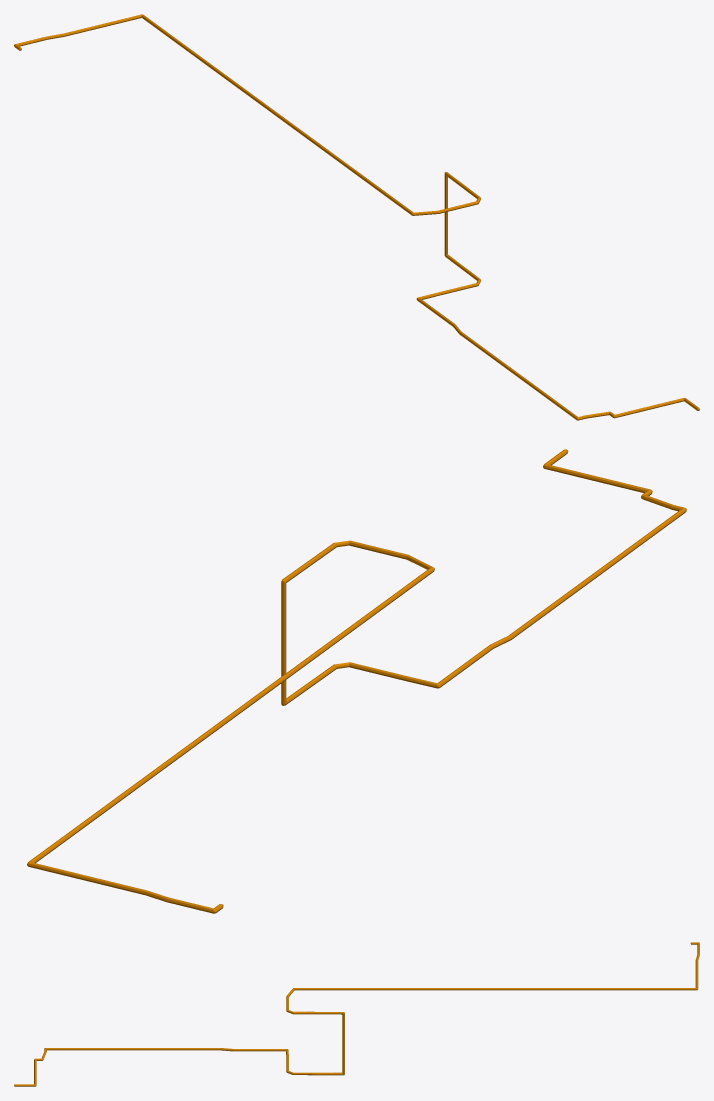
3 views of the same model, one above another, from view 1: azimuth 30°, elevation 25°; view 2: azimuth 150°, elevation 25°; view 3: azimuth 270°, elevation 25° (orthographic). The views are drawn at different scales.
Bounding box in the file's own units: 1448 × 520 × 5109.
